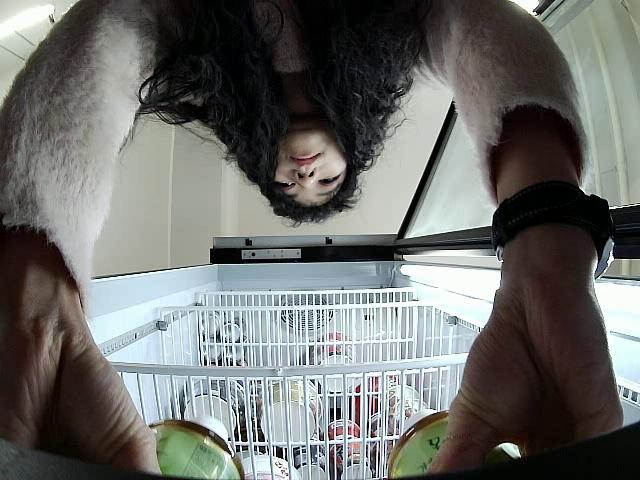00_hand: (423, 284, 624, 473)
19_17cha: (389, 404, 518, 480), (151, 414, 244, 480)
